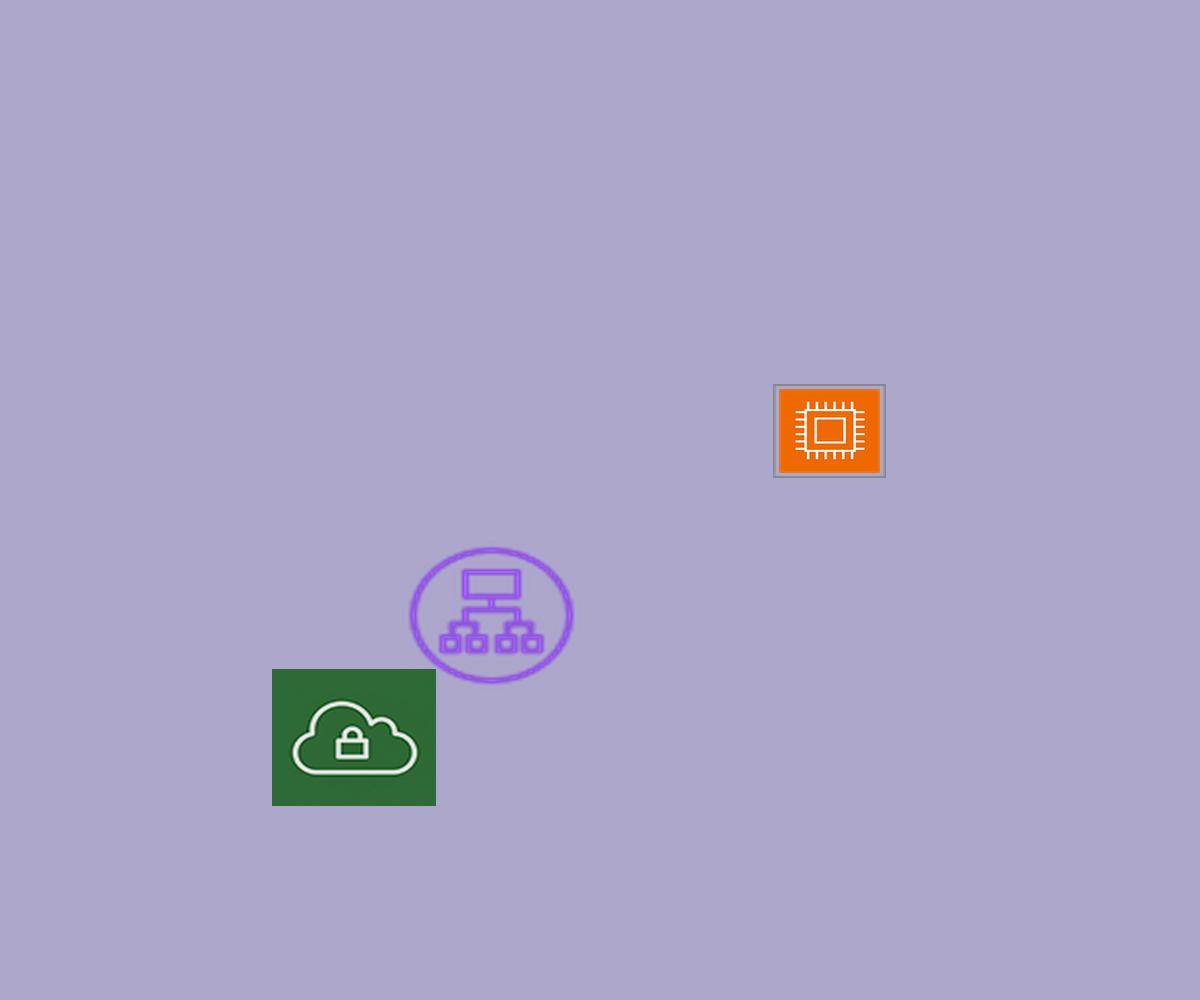AWS-Category_Compute: (773, 384, 886, 478)
AWS-Private_vpc: (272, 669, 436, 806)
AWS-Res_Elastic-Load-Balancing_Application-Load-Balancer: (402, 541, 581, 690)
